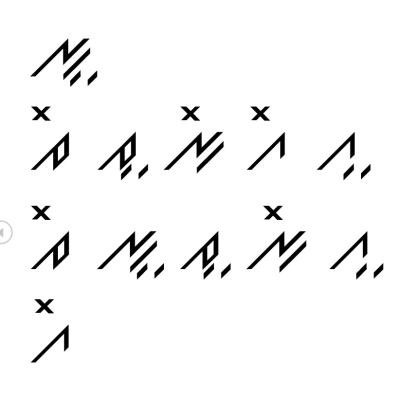gah: (312, 124, 379, 186), (323, 224, 386, 289)
go: (23, 294, 76, 367), (239, 101, 292, 173)
ngah: (21, 29, 102, 92), (97, 224, 169, 282)
ngo: (242, 199, 309, 278), (159, 103, 229, 177)
tah: (177, 223, 233, 280), (94, 127, 152, 182)
to: (24, 196, 73, 274), (20, 104, 72, 174)
